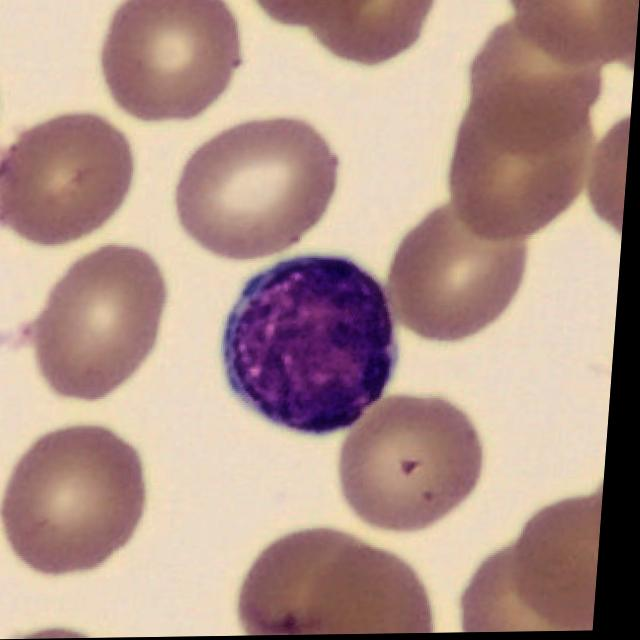Linfocito: (226, 255, 404, 434)
